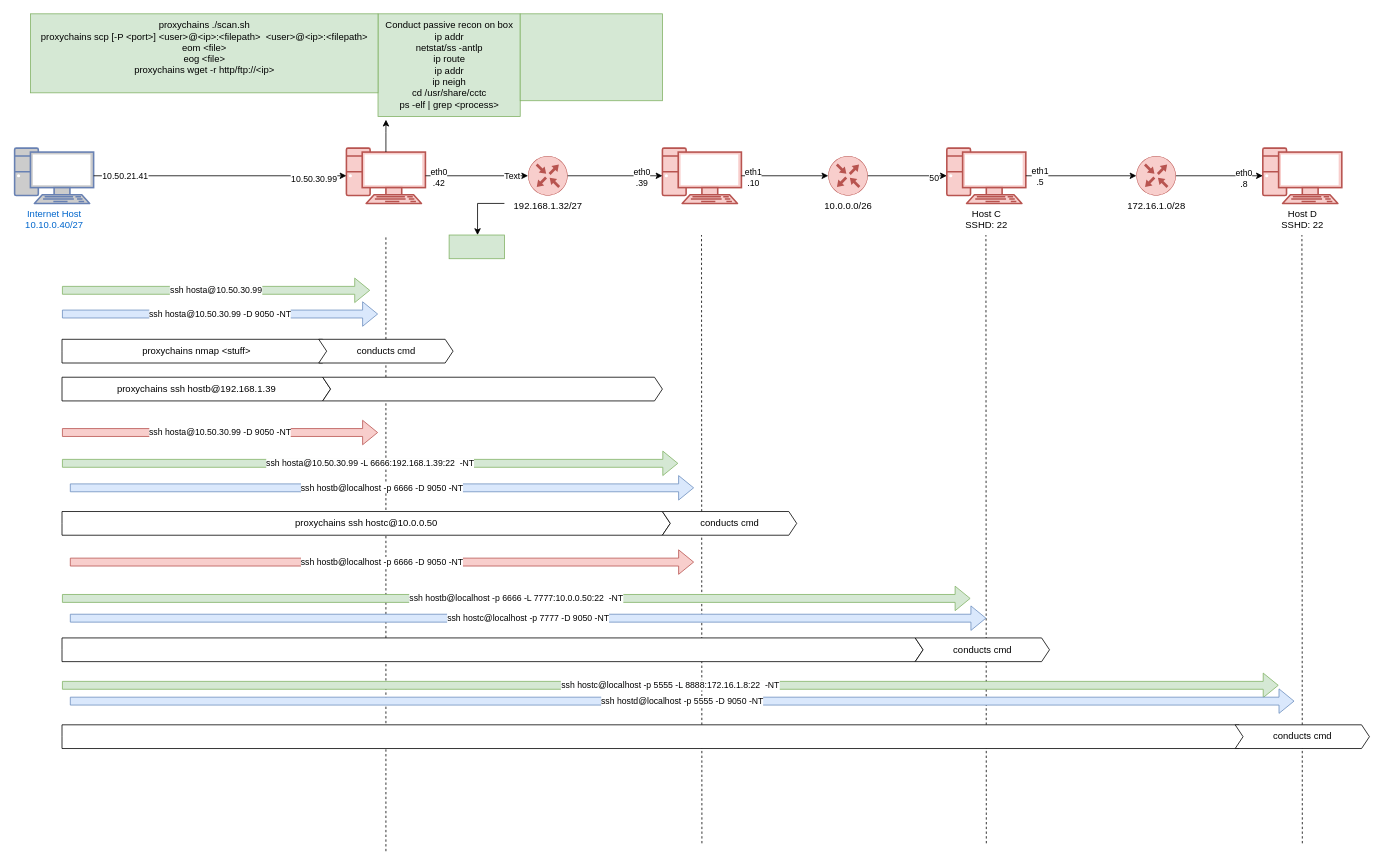
Image size: 1383x866. Some labels were removed from this diagram. The box of each missing label's shape, as (x1, y1, x2, y2) in pixels:
Conduct passive recon on box ./scan nmap nc <ip> <port> ftp wget -r curl: (519, 13, 662, 101)
Host A SSHD: 22: (345, 147, 426, 204)
Host B SSHD: 22: (661, 147, 742, 204)
log in ssh: (322, 376, 662, 401)
proxychains ssh hostd@172.16.1.8: (61, 637, 923, 662)
proxychains ssh hoste@<ip>: (61, 724, 1247, 749)
scan cidr: (448, 234, 504, 259)
